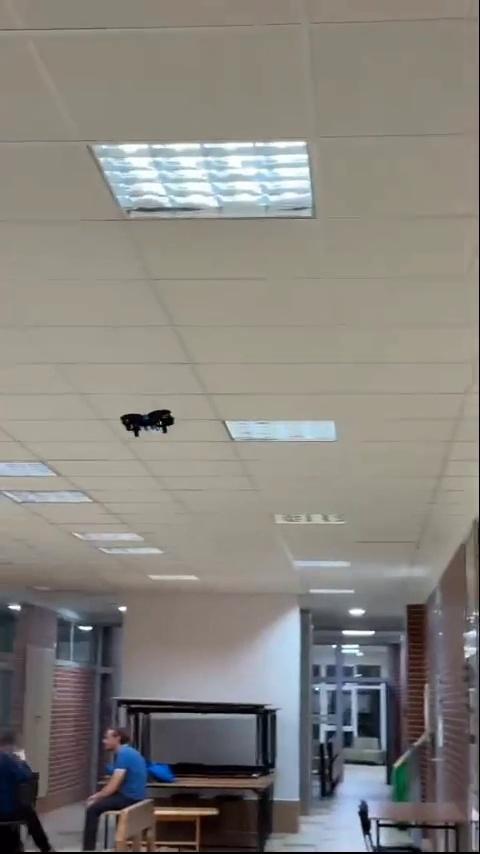drone: (121, 407, 178, 434)
no vest: (81, 723, 146, 816)
